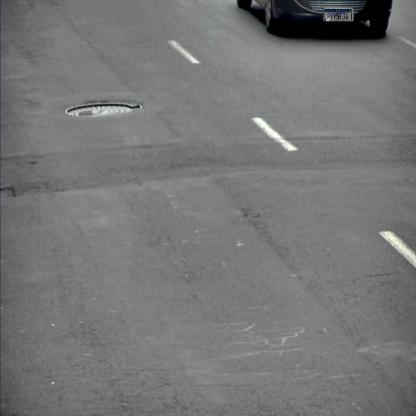PlacaM: (324, 9, 352, 22)
